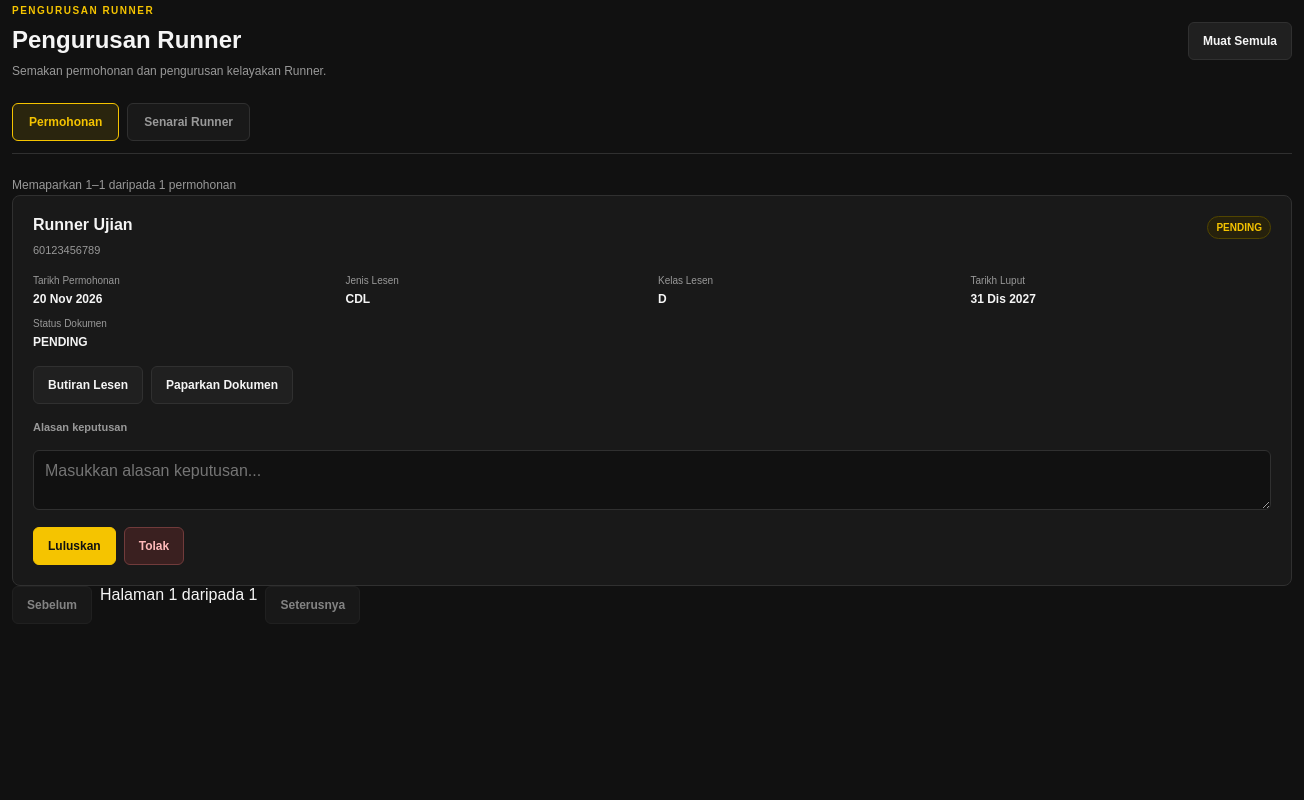
Test case: RunnerApplicationsPage › mewajibkan alasan sebelum keputusan dihantar
Expected: the heading "Runner Ujian" is shown, [33,216,133,234]
Click the button "Luluskan" at {"x": 74, "y": 546}, box [33,527,116,565]
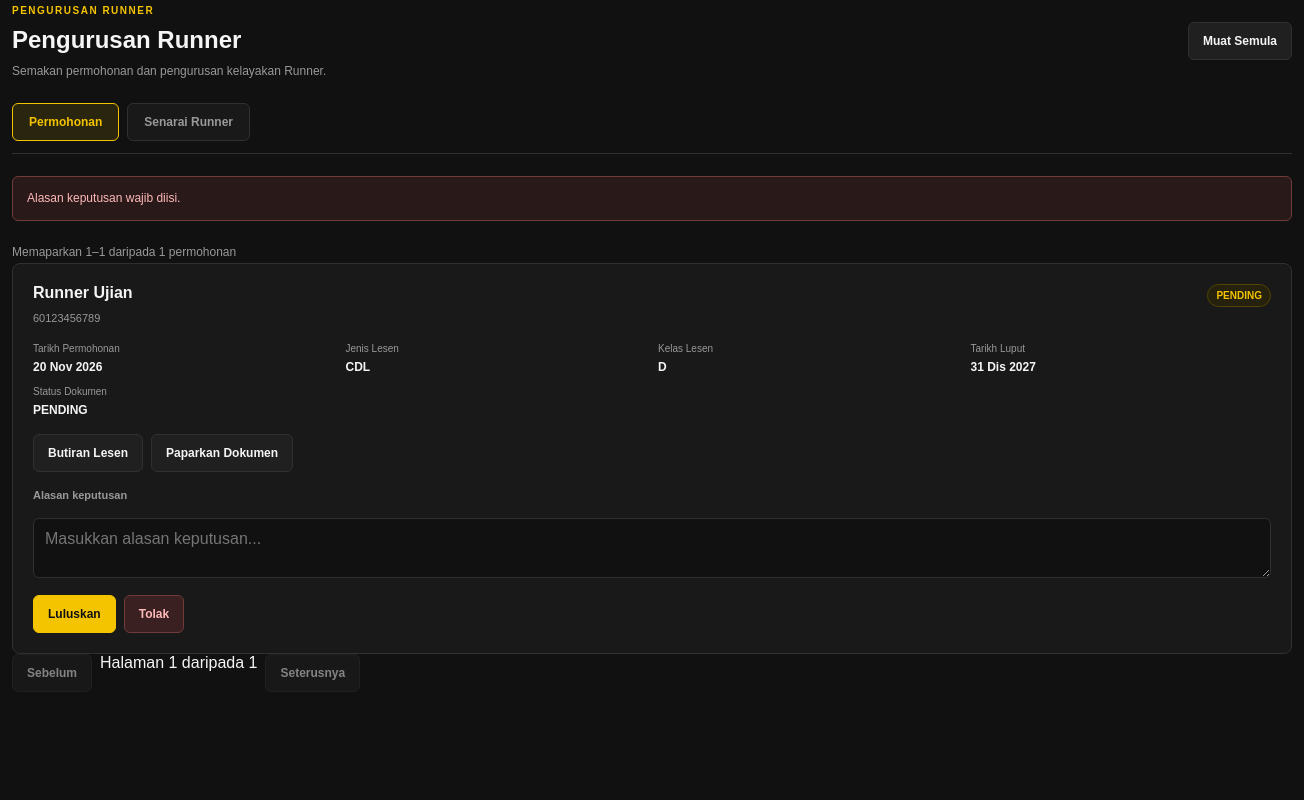
Expected: the text "Alasan keputusan wajib diisi." is shown, [12,176,1292,221]
